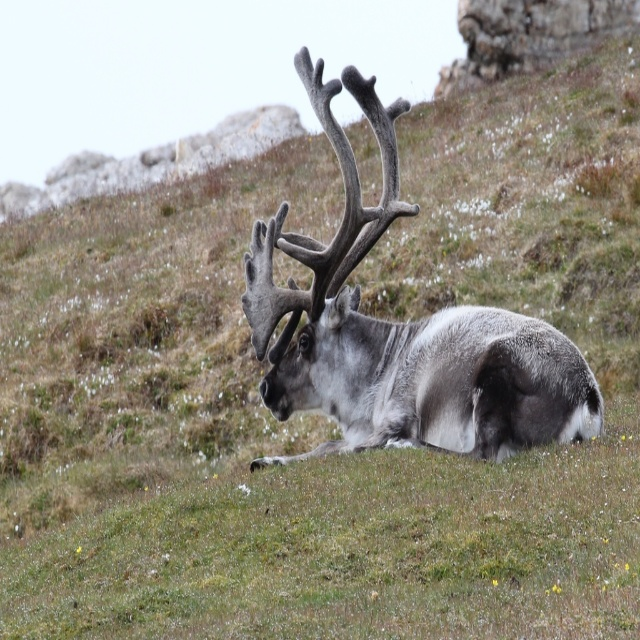Deer: (245, 44, 609, 456)
